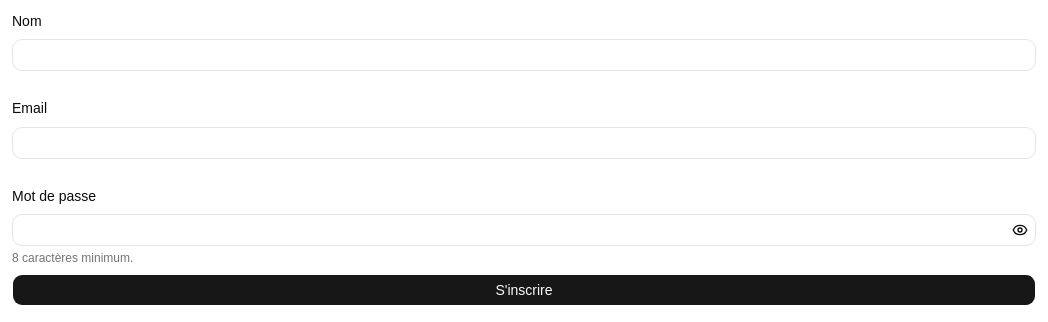
Test: RegisterForm › refuses a password shorter than 8 characters without submitting
Type "Ada" into the field labelled "Nom".
click(524, 55); type("Ada")  # box [12,39,1036,71]
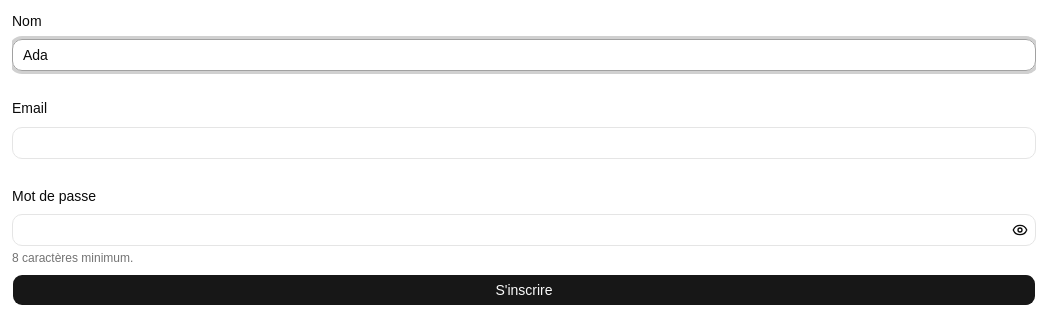
Type "ada@example.com" into the field labelled "Email".
click(524, 142); type("ada@example.com")  # box [12,126,1036,158]
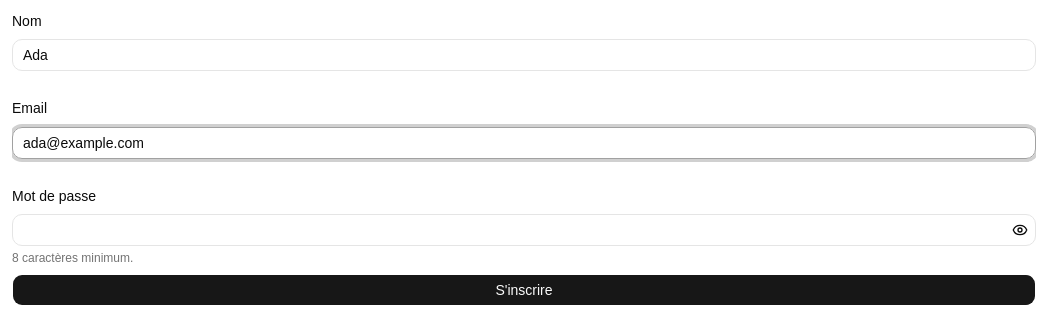
Type "1234567" into the password field labelled "Mot de passe".
click(524, 230); type("1234567")  # box [12,214,1036,246]
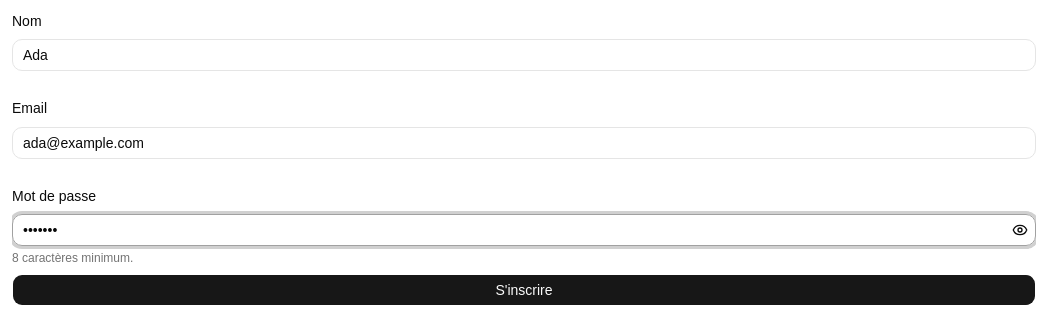
Click the button "S'inscrire".
click(524, 290)  # box [12,274,1036,306]
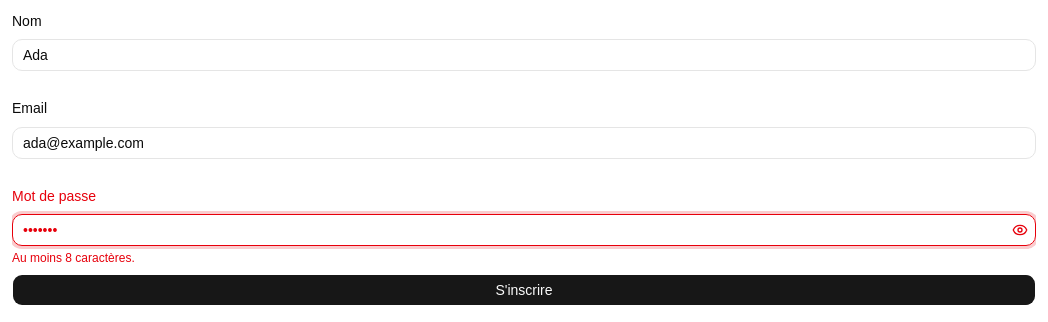
Now the text "Au moins 8 caractères." is shown, box [12,251,135,265]
